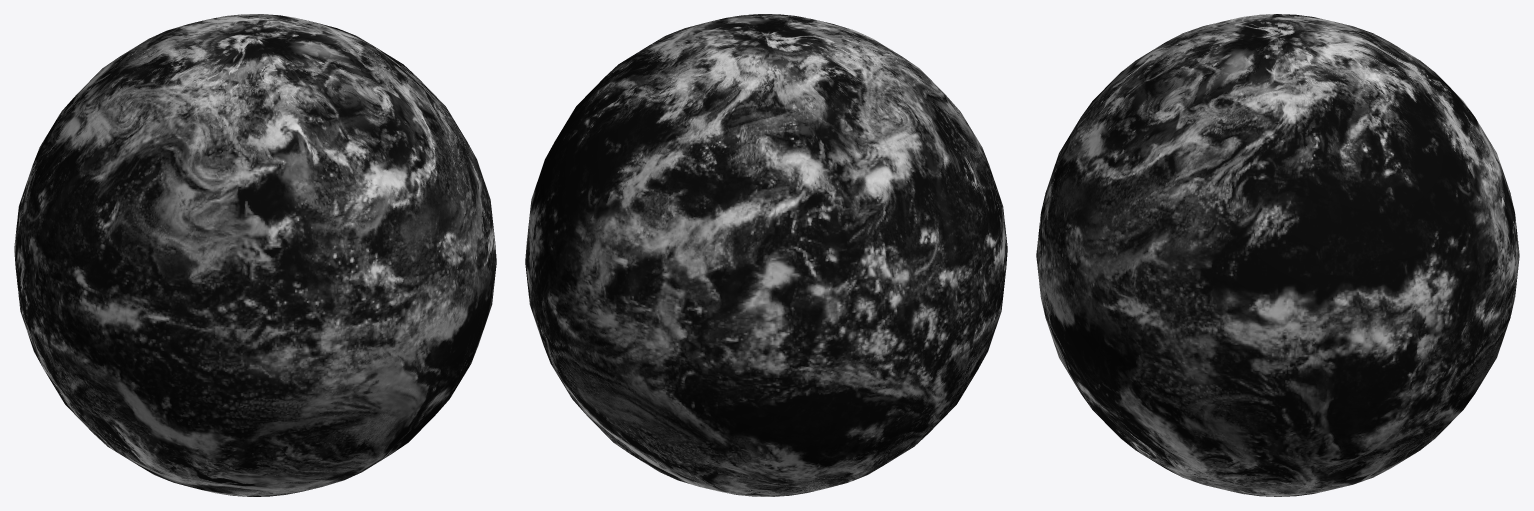
Rendered from Bumi Model.glb.
3 renders of one model, left to right at view 1: azimuth 30°, elevation 25°; view 2: azimuth 150°, elevation 25°; view 3: azimuth 270°, elevation 25°, orthographic.
Parts seen in each view (by area): view 1: Earth; view 2: Earth; view 3: Earth.
Boxes of the visible parts, left/top/right/bottom form: Earth: left=14, top=14, right=496, bottom=496; Earth: left=525, top=14, right=1007, bottom=496; Earth: left=1036, top=14, right=1519, bottom=496.
Size of the model in its own units: 2 by 2 by 2.
1 material, 1 textured.
